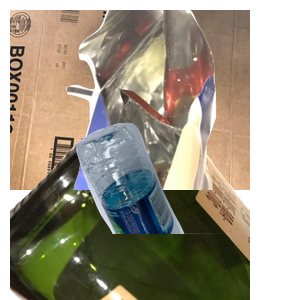cardboard: (10, 10, 250, 190)
glass: (10, 120, 250, 300)
plastic: (73, 120, 300, 300)
trash: (63, 10, 300, 190)
